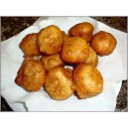bonda: (75, 61, 105, 98), (16, 59, 46, 91), (45, 67, 73, 99), (38, 26, 65, 53), (63, 38, 90, 64), (92, 33, 118, 54), (20, 33, 43, 56), (70, 22, 94, 40)
